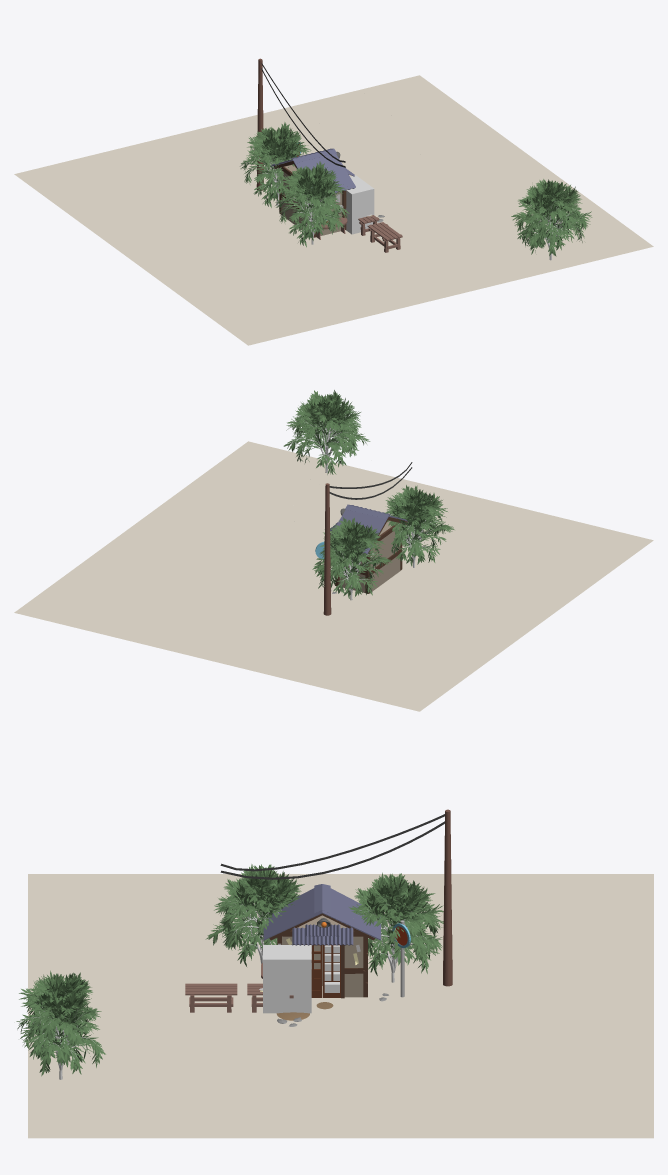
The model's file is Machari.fbx.
The picture shows the model from 3 angles, top to bottom: view 1: azimuth 30°, elevation 25°; view 2: azimuth 150°, elevation 25°; view 3: azimuth 270°, elevation 25°; orthographic projection. The views are drawn at different scales.
Visible parts, largest first — view 1: Plane, leaves.003, leaves.002, leaves.001, Cube.003, Cube.026, Cube, Cylinder.003; view 2: Plane, leaves.003, leaves.001, leaves.002, Cube, Cylinder.003, Cube.026; view 3: Plane, leaves.003, leaves.001, leaves.002, Cube.003, Cube.026, Cylinder.003, Cube, Plane.001, Cube.013, BézierCurve.001, BézierCurve.
Boxes of the visible parts, bbox=[...] form: Plane: bbox=[14, 75, 653, 345]; leaves.003: bbox=[511, 179, 592, 256]; leaves.002: bbox=[275, 161, 349, 247]; leaves.001: bbox=[240, 122, 311, 207]; Cube.003: bbox=[345, 175, 374, 234]; Cube.026: bbox=[270, 153, 355, 193]; Cube: bbox=[281, 165, 342, 235]; Cylinder.003: bbox=[256, 58, 264, 190]; Plane: bbox=[14, 441, 653, 711]; leaves.003: bbox=[283, 390, 370, 474]; leaves.001: bbox=[312, 517, 392, 598]; leaves.002: bbox=[384, 485, 454, 566]; Cube: bbox=[339, 521, 401, 593]; Cylinder.003: bbox=[323, 483, 331, 615]; Cube.026: bbox=[331, 509, 407, 554]; Plane: bbox=[28, 874, 653, 1138]; leaves.003: bbox=[16, 970, 105, 1076]; leaves.001: bbox=[349, 872, 443, 975]; leaves.002: bbox=[205, 864, 304, 966]; Cube.003: bbox=[263, 945, 311, 1013]; Cube.026: bbox=[263, 888, 380, 940]; Cylinder.003: bbox=[443, 809, 452, 986]; Cube: bbox=[282, 915, 363, 997]; Plane.001: bbox=[292, 927, 353, 945]; Cube.013: bbox=[185, 983, 237, 995]; BézierCurve.001: bbox=[220, 821, 444, 879]; BézierCurve: bbox=[220, 814, 444, 871].
Size of the model in its own units: 2114 by 1428 by 2161.
